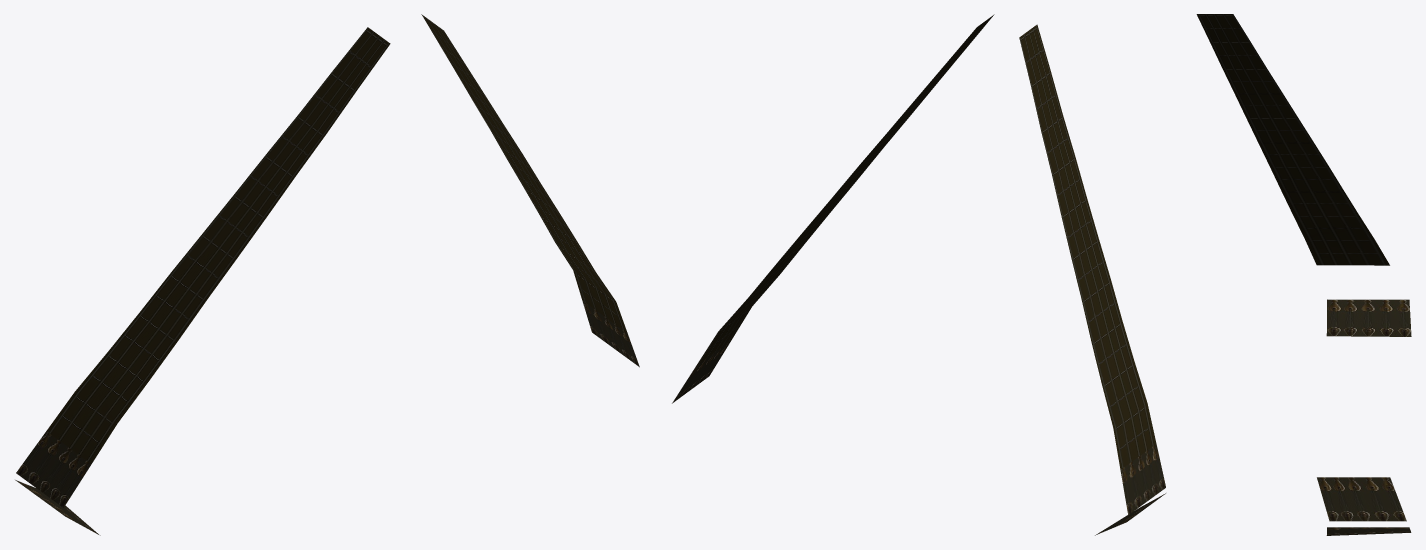
Rendered from goliath-rigging_1.fbx.
3 views of the same model, side by side, from view 1: azimuth 30°, elevation 25°; view 2: azimuth 150°, elevation 25°; view 3: azimuth 270°, elevation 25° (orthographic). The views are drawn at different scales.
Visible parts, largest first — view 1: rigging, pullys_1b, pullys_1b3; view 2: rigging, pullys_1b, pullys_1b3; view 3: rigging, pullys_1b3, riggingmount_pulleys1, riggingmount_pulleys4.
Part boxes in pixels (x1=…): rigging: x1=46, y1=14, x2=627, y2=463; pullys_1b: x1=16, y1=431, x2=91, y2=507; pullys_1b3: x1=582, y1=300, x2=639, y2=367; rigging: x1=696, y1=14, x2=1156, y2=469; pullys_1b: x1=1120, y1=444, x2=1165, y2=514; pullys_1b3: x1=672, y1=341, x2=730, y2=403; rigging: x1=1196, y1=14, x2=1389, y2=265; pullys_1b3: x1=1317, y1=477, x2=1406, y2=521; riggingmount_pulleys1: x1=1326, y1=299, x2=1411, y2=336; riggingmount_pulleys4: x1=1326, y1=527, x2=1411, y2=535.
Size of the model in its own units: 24580 by 20380 by 9809.
Materials: 1 (1 with a texture image).
